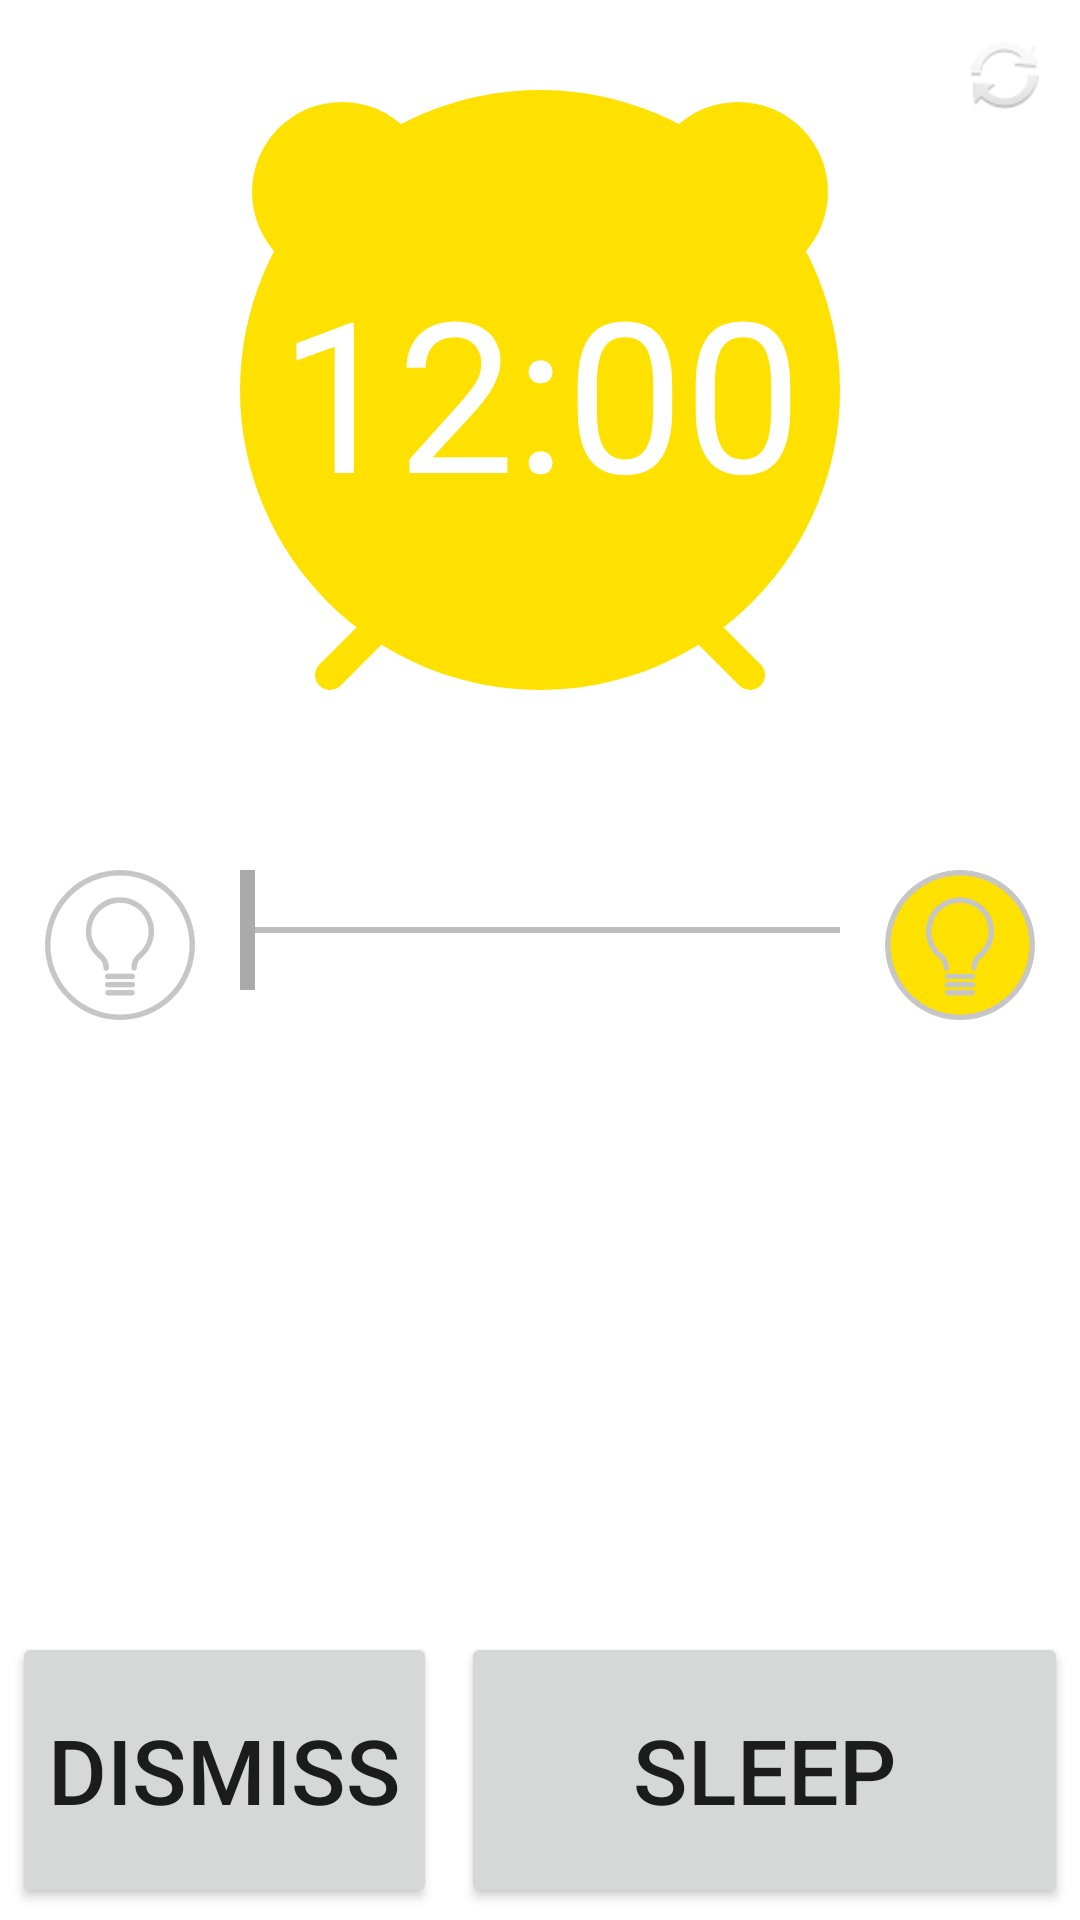

Screen size 1080 x 1920. Icon name, then its box in pixels as (x1, y1, x2, y2):
popup sync: (971, 49, 1038, 108)
switchbuttonoff: (45, 870, 195, 1020)
switchbuttonon: (885, 870, 1035, 1020)
